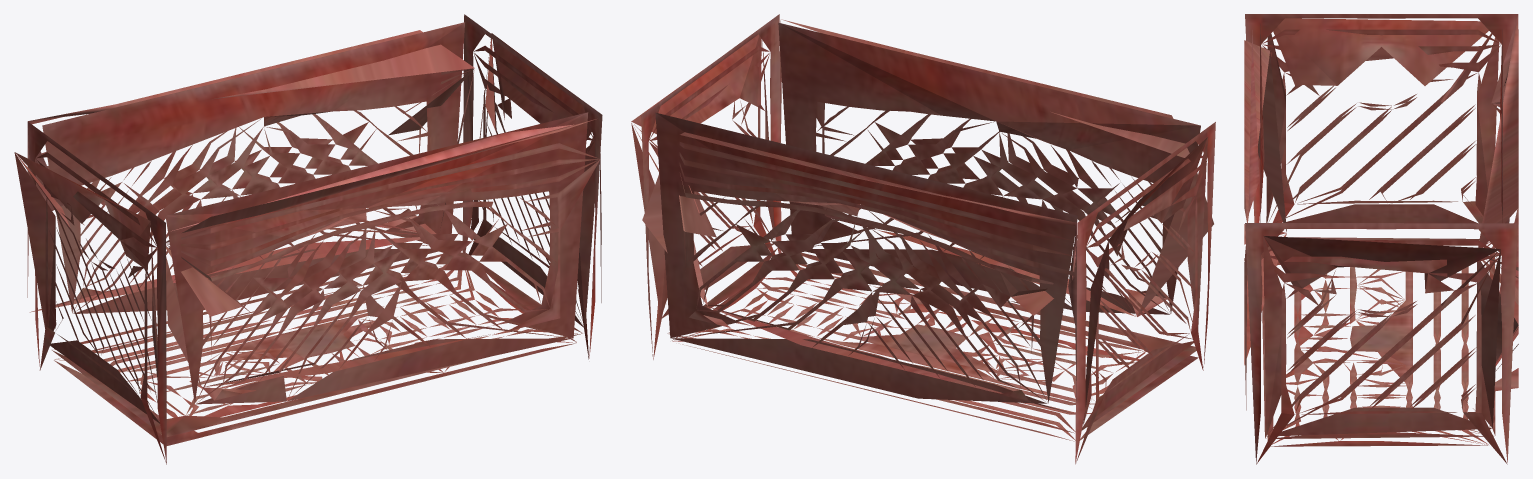
Rendered from plastic_crate_03.glb.
The picture shows the model from 3 angles, left to right: view 1: azimuth 30°, elevation 25°; view 2: azimuth 150°, elevation 25°; view 3: azimuth 270°, elevation 25°; orthographic projection.
Parts seen in each view (by area): view 1: plastic_crate_03; view 2: plastic_crate_03; view 3: plastic_crate_03.
Part boxes in pixels (x1,y1,x2,y2): plastic_crate_03: (14,14,602,464); plastic_crate_03: (631,14,1215,464); plastic_crate_03: (1244,14,1518,464).
Bounding box in the file's own units: 0.525 × 0.2619 × 0.265.
Materials: 1 (1 with a texture image).
